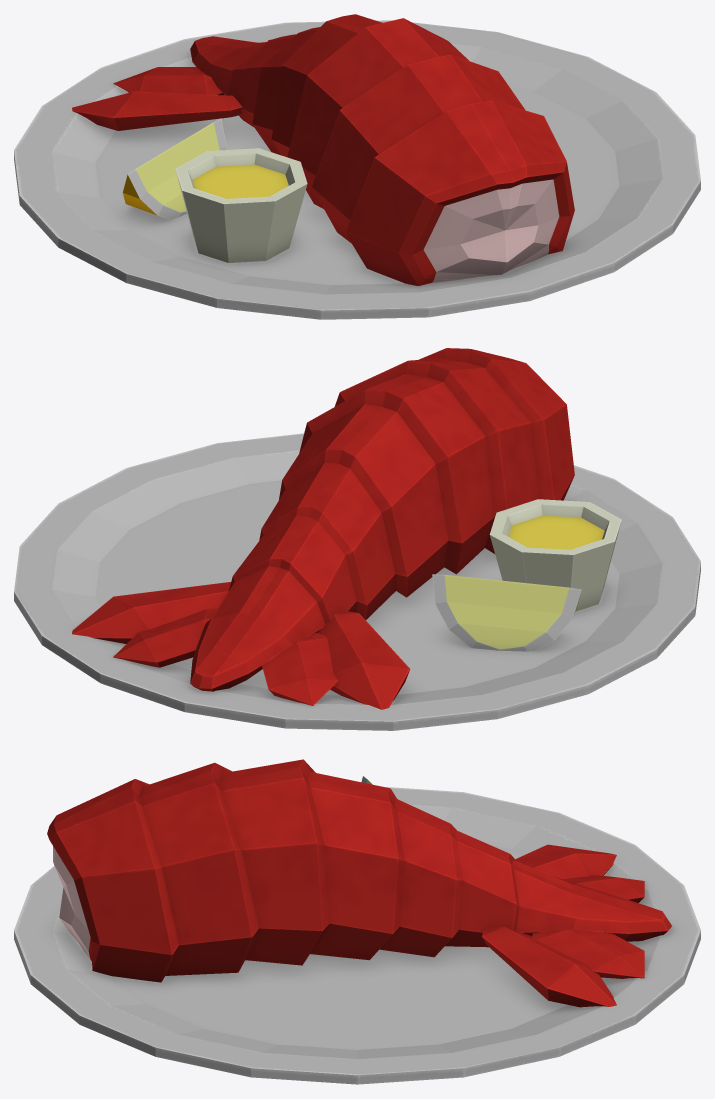
The model's file is LobsterTail.obj.
3 views of the same model, one above another, from view 1: azimuth 30°, elevation 25°; view 2: azimuth 150°, elevation 25°; view 3: azimuth 270°, elevation 25° (orthographic).
Parts seen in each view (by area): view 1: LobsterTail_mesh; view 2: LobsterTail_mesh; view 3: LobsterTail_mesh.
Part boxes in pixels (x1=…): LobsterTail_mesh: x1=14, y1=14, x2=700, y2=319; LobsterTail_mesh: x1=14, y1=348, x2=700, y2=730; LobsterTail_mesh: x1=14, y1=759, x2=700, y2=1084.
Bounding box in the file's own units: 2.57 × 0.8566 × 2.57.
Materials: 1 (1 with a texture image).
